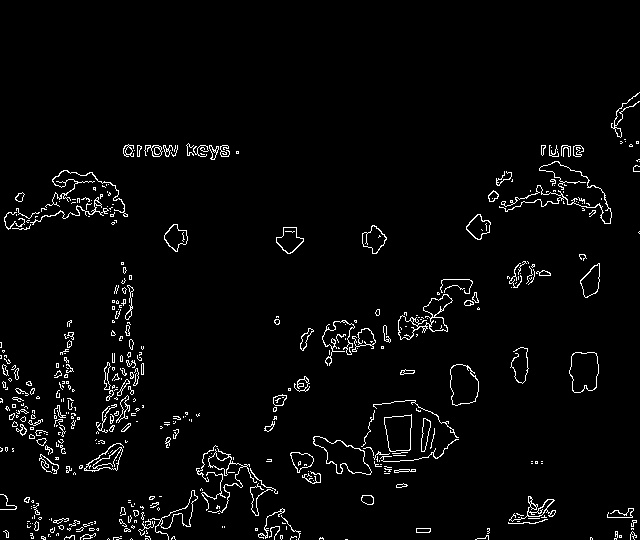down: (268, 221, 311, 264)
left: (154, 216, 198, 259), (457, 209, 499, 247)
right: (353, 218, 396, 263)
